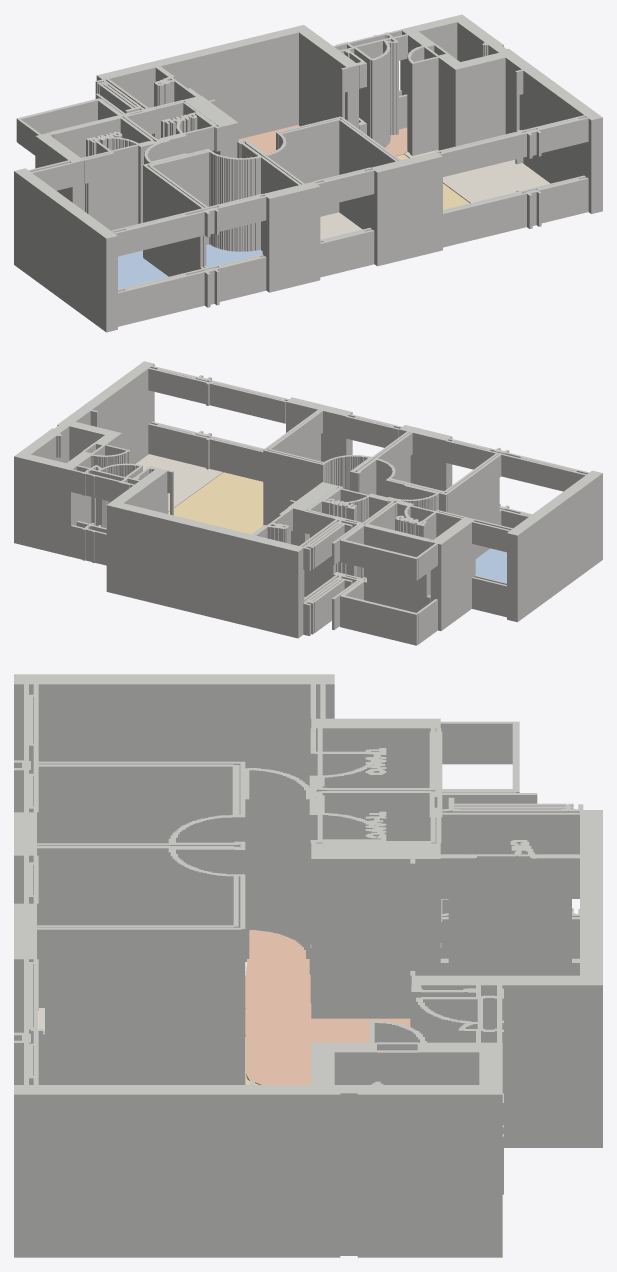
3 views of the same model, one above another, from view 1: azimuth 30°, elevation 25°; view 2: azimuth 150°, elevation 25°; view 3: azimuth 270°, elevation 25° (orthographic). The views are drawn at different scales.
Visible parts, largest first — view 1: walls, room:other:7, room:bedroom:3, room:kitchen:1, room:other:15, room:bedroom:4; view 2: walls, room:living:6, room:other:7, room:bedroom:3; view 3: walls, room:kitchen:1.
Boxes of the visible parts, bbox=[...] form: walls: bbox=[14, 14, 602, 332]; room:other:7: bbox=[404, 150, 549, 203]; room:bedroom:3: bbox=[118, 250, 168, 288]; room:kitchen:1: bbox=[238, 125, 407, 156]; room:other:15: bbox=[320, 212, 362, 239]; room:bedroom:4: bbox=[206, 244, 262, 266]; walls: bbox=[14, 361, 602, 645]; room:living:6: bbox=[168, 472, 263, 534]; room:other:7: bbox=[136, 454, 222, 511]; room:bedroom:3: bbox=[475, 548, 506, 582]; walls: bbox=[14, 674, 602, 1257]; room:kitchen:1: bbox=[245, 930, 410, 1084].
Bounding box in the file's own units: 15.51 × 2.8 × 9.19.
